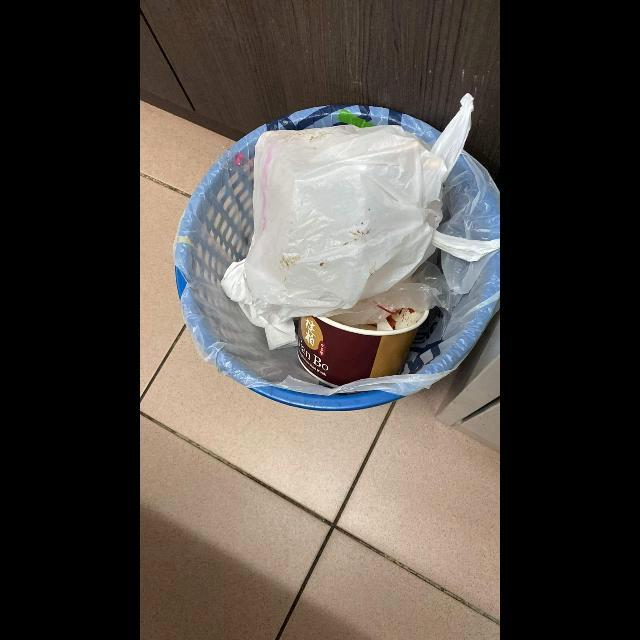cardboard: (298, 307, 430, 385)
plastic_bag: (224, 97, 496, 349), (333, 260, 456, 322)
